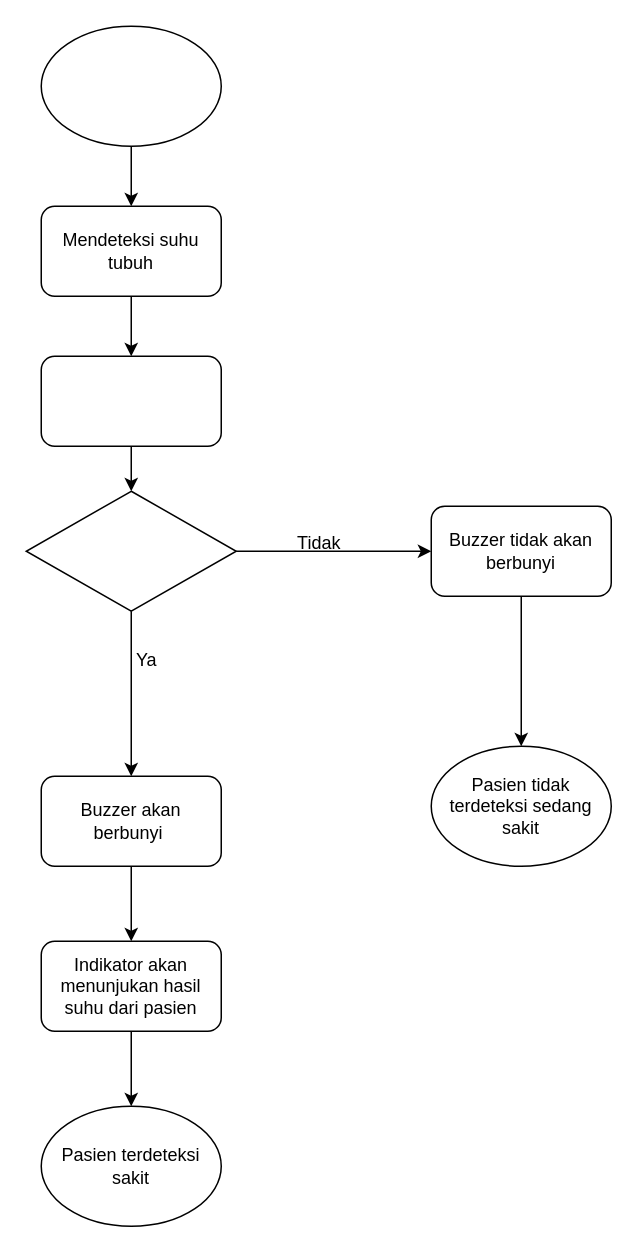
The diagram is 638 pixels wide and 1253 high, and some of its shapes have lost their labels. Each missing label, with the box of its shape:
Apakah suhu tubuh pasien yang terdeteksi itu sakit: (25, 490, 236, 611)
Menempelkan alat sensor ke tubuh: (40, 25, 221, 146)
Suhu tubuh akan terdeteksi: (40, 355, 221, 446)
